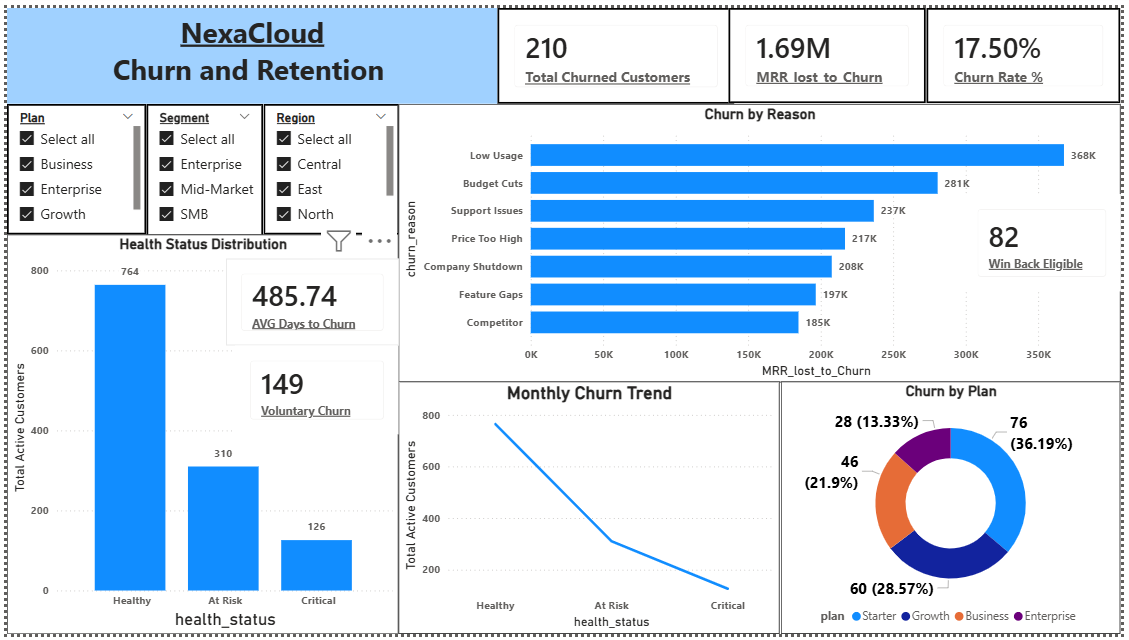

The dashboard page shown, as its layout file describes it:
{"tool":"powerbi","page":{"name":"Churn and Retention","canvas":[1280,720],"ordinal":2},"visuals":[{"type":"textbox","box":[0,0,564,110],"z":0},{"type":"slicer","fields":{"Values":["finops360 fact_churn.plan"]},"box":[0,110,160,150],"z":1000},{"type":"slicer","fields":{"Values":["finops360 fact_churn.segment"]},"box":[160,110,134,152],"z":2000},{"type":"slicer","fields":{"Values":["finops360 fact_churn.region"]},"box":[294,110,156,150],"z":3000},{"type":"cardVisual","fields":{"Data":["Churn_Measures.Total Churned Customers"]},"box":[564,0,272,110],"z":4000},{"type":"cardVisual","fields":{"Data":["Churn_Measures.Churn Rate %"]},"box":[1056.4,0,223,109.6],"z":5000},{"type":"cardVisual","fields":{"Data":["Churn_Measures.MRR_lost_to_Churn"]},"box":[829.6,0,226.8,109.6],"z":6000},{"type":"clusteredBarChart","title":"Churn by Reason","fields":{"Category":["finops360 fact_churn.churn_reason"],"Y":["Churn_Measures.MRR_lost_to_Churn"]},"box":[450,110,830,320],"z":7000},{"type":"donutChart","title":"Churn by Plan","fields":{"Category":["finops360 fact_churn.plan"],"Y":["Churn_Measures.Total Churned Customers"]},"box":[890,430,390,290],"z":8000},{"type":"lineChart","title":"Monthly Churn Trend","fields":{"Category":["finops360 dim_customers.health_status"],"Y":[" Customer Measures.Total Active Customers"]},"box":[450,430,438,290],"z":9000},{"type":"lineClusteredColumnComboChart","title":"Health Status Distribution","fields":{"Category":["finops360 dim_customers.health_status"],"Y":[" Customer Measures.Total Active Customers"]},"box":[0,260.8,449.8,459.2],"z":10000},{"type":"cardVisual","fields":{"Data":["Churn_Measures.AVG Days to Churn"]},"box":[252,288,198,100],"z":11000},{"type":"cardVisual","fields":{"Data":["Churn_Measures.Voluntary Churn"]},"box":[262,388,188,102],"z":12000},{"type":"cardVisual","fields":{"Data":["Churn_Measures.Win Back Eligible"]},"box":[1098,214,182,112],"z":13000}]}

Visuals, with their boxes in screenshot pixels (x1, y1, x2, y2), scaled from the page's 1280x720 canvas onto the 1129x640 screenshot:
textbox: x1=0, y1=0, x2=497, y2=98
slicer - finops360 fact_churn.plan: x1=0, y1=98, x2=141, y2=231
slicer - finops360 fact_churn.segment: x1=141, y1=98, x2=259, y2=233
slicer - finops360 fact_churn.region: x1=259, y1=98, x2=397, y2=231
cardVisual - Churn_Measures.Total Churned Customers: x1=497, y1=0, x2=737, y2=98
cardVisual - Churn_Measures.Churn Rate %: x1=932, y1=0, x2=1128, y2=97
cardVisual - Churn_Measures.MRR_lost_to_Churn: x1=732, y1=0, x2=932, y2=97
"Churn by Reason" clusteredBarChart: x1=397, y1=98, x2=1128, y2=382
"Churn by Plan" donutChart: x1=785, y1=382, x2=1128, y2=639
"Monthly Churn Trend" lineChart: x1=397, y1=382, x2=783, y2=639
"Health Status Distribution" lineClusteredColumnComboChart: x1=0, y1=232, x2=397, y2=639
cardVisual - Churn_Measures.AVG Days to Churn: x1=222, y1=256, x2=397, y2=345
cardVisual - Churn_Measures.Voluntary Churn: x1=231, y1=345, x2=397, y2=436
cardVisual - Churn_Measures.Win Back Eligible: x1=968, y1=190, x2=1128, y2=290
